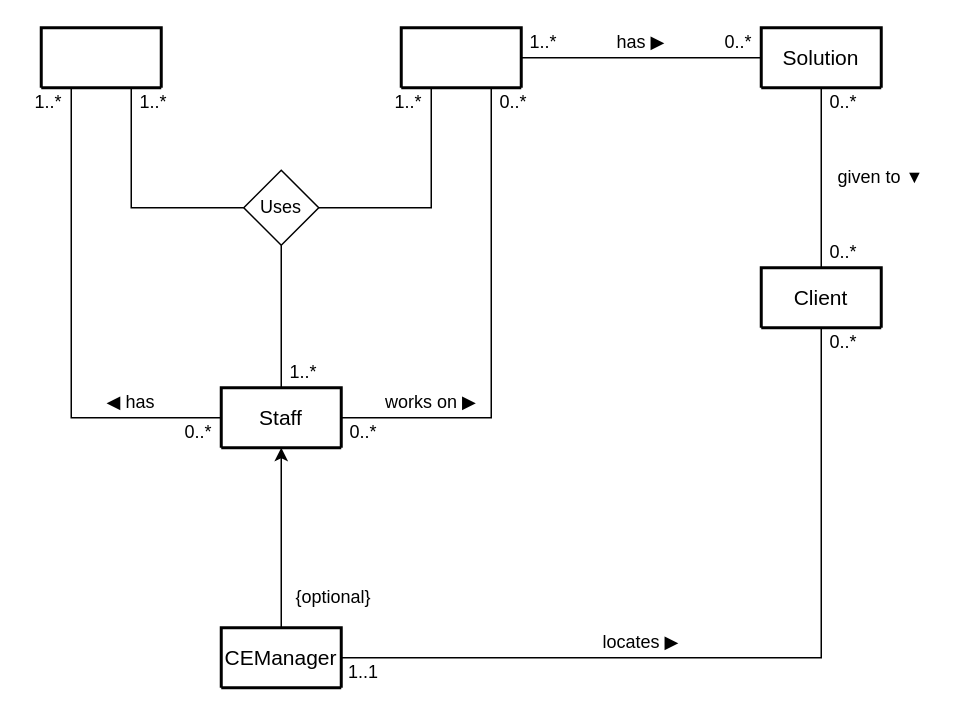
Some shapes in this 966 by 714 pixel diagram are drawn without their labels. Here are the shapes that lost their labels. From the top down, the centre of each, then its label:
(x=100, y=57): Skill
(x=460, y=57): Project
